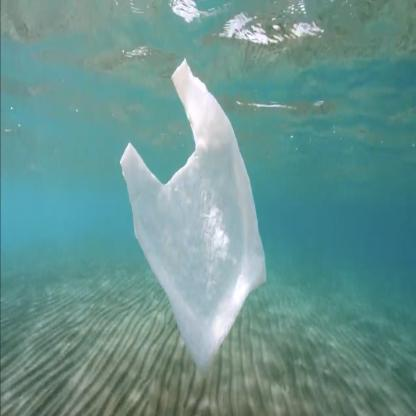Rác: (113, 51, 272, 370)
